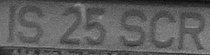2: (57, 7, 86, 49)
5: (81, 4, 109, 45)
C: (150, 7, 175, 50)
I: (2, 1, 19, 46)
R: (177, 8, 207, 53)
S: (118, 6, 147, 50), (18, 3, 44, 44)
